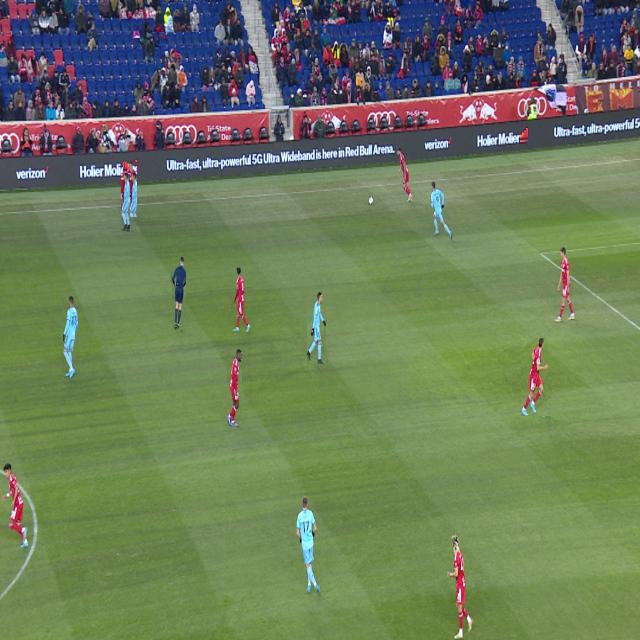football: (369, 196, 373, 205)
player: (447, 533, 474, 639), (296, 497, 320, 595), (2, 463, 29, 548), (522, 338, 548, 416), (554, 247, 575, 322), (307, 293, 326, 364), (431, 182, 453, 240), (63, 297, 78, 379), (227, 349, 242, 426), (233, 268, 251, 332), (397, 147, 412, 202), (123, 162, 137, 217), (122, 174, 130, 230)
referee: (172, 257, 186, 330)
